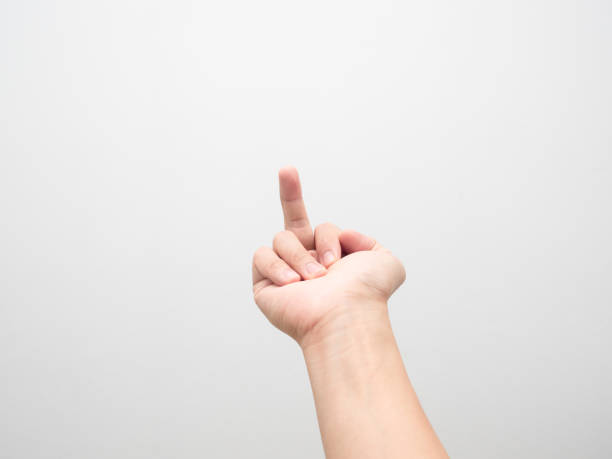insulting_gesture: (250, 164, 412, 361)
